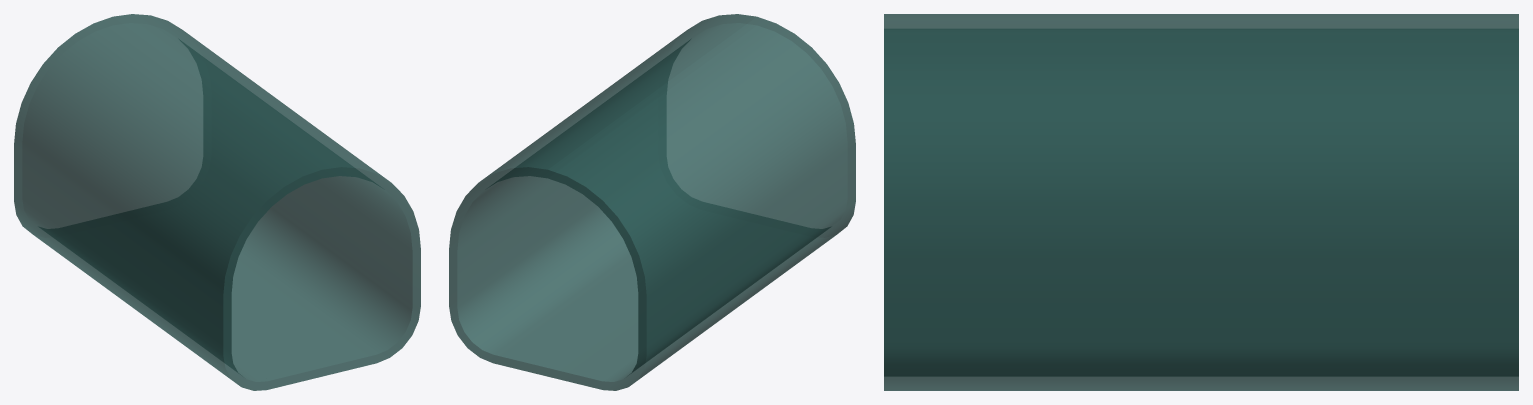
File: GlassHallway.fbx
3 views of the same model, side by side, from view 1: azimuth 30°, elevation 25°; view 2: azimuth 150°, elevation 25°; view 3: azimuth 270°, elevation 25° (orthographic). The views are drawn at different scales.
Visible parts, largest first — view 1: pCube286; view 2: pCube286; view 3: pCube286.
Part boxes in pixels (x1,y1,x2,y2): pCube286: (14, 14, 420, 390); pCube286: (449, 14, 855, 390); pCube286: (884, 14, 1518, 390).
Size of the model in its own units: 546 by 546 by 1000.
